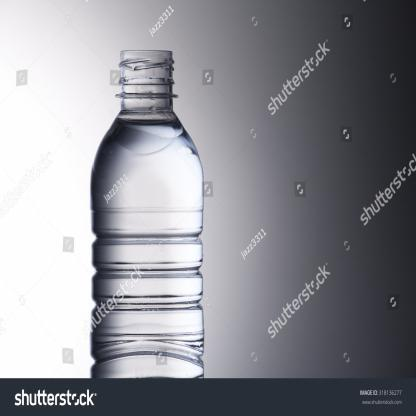bottle: (61, 0, 189, 175)
